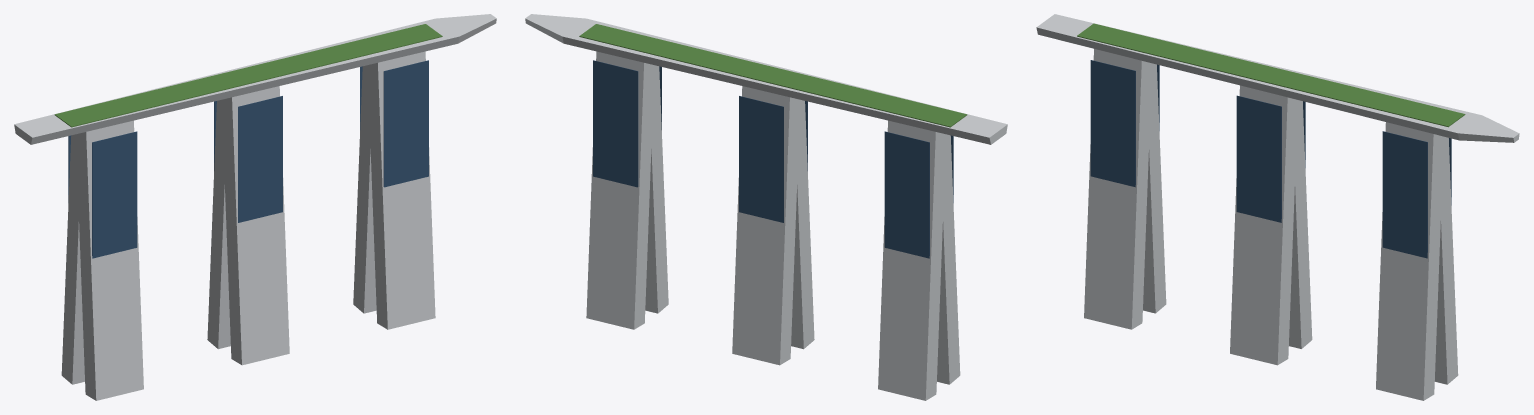
File: marina-bay-sands.glb
3 renders of one model, left to right at view 1: azimuth 30°, elevation 25°; view 2: azimuth 150°, elevation 25°; view 3: azimuth 330°, elevation 25°, orthographic.
Parts seen in each view (by area): view 1: marina-bay-sands; view 2: marina-bay-sands; view 3: marina-bay-sands.
Part boxes in pixels (x1=…): marina-bay-sands: x1=14, y1=14, x2=496, y2=400; marina-bay-sands: x1=525, y1=14, x2=1007, y2=400; marina-bay-sands: x1=1036, y1=14, x2=1519, y2=400.
Bounding box in the file's own units: 355 × 197 × 45.22.
